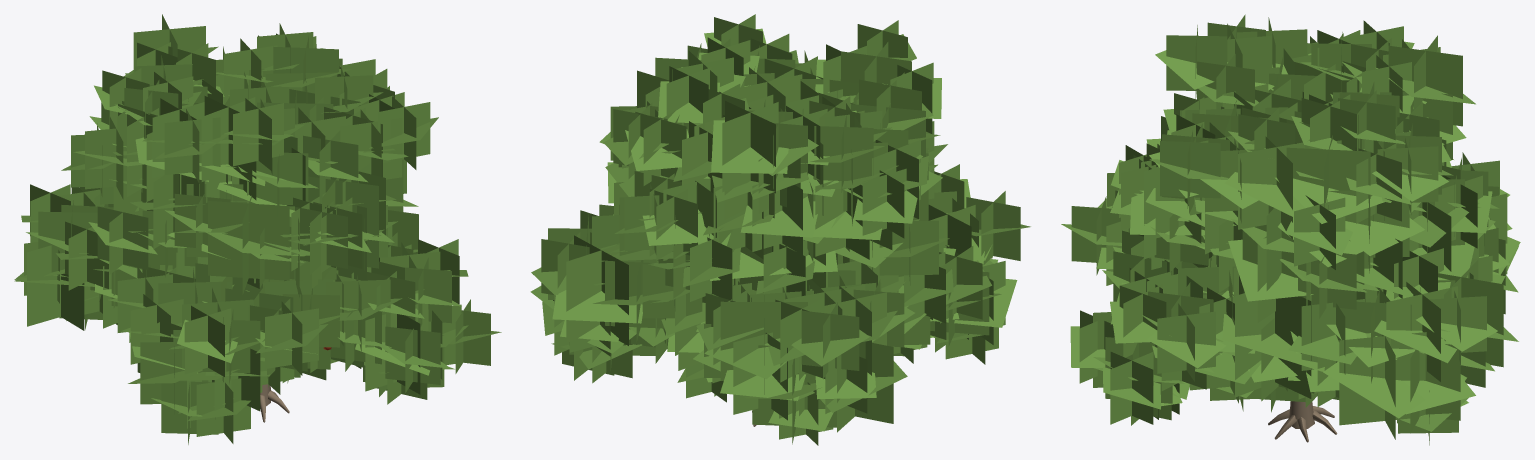
File: pommier_1_jeu.glb
3 renders of one model, left to right at view 1: azimuth 30°, elevation 25°; view 2: azimuth 150°, elevation 25°; view 3: azimuth 270°, elevation 25°, orthographic. The views are drawn at different scales.
Visible parts, largest first — view 1: Pommier_T1_Leger; view 2: Pommier_T1_Leger; view 3: Pommier_T1_Leger.
Part boxes in pixels (<box>): Pommier_T1_Leger: <box>14,14,501,444</box>; Pommier_T1_Leger: <box>530,14,1030,445</box>; Pommier_T1_Leger: <box>1061,14,1520,445</box>.
Size of the model in its own units: 4.56 by 4.01 by 4.53.
